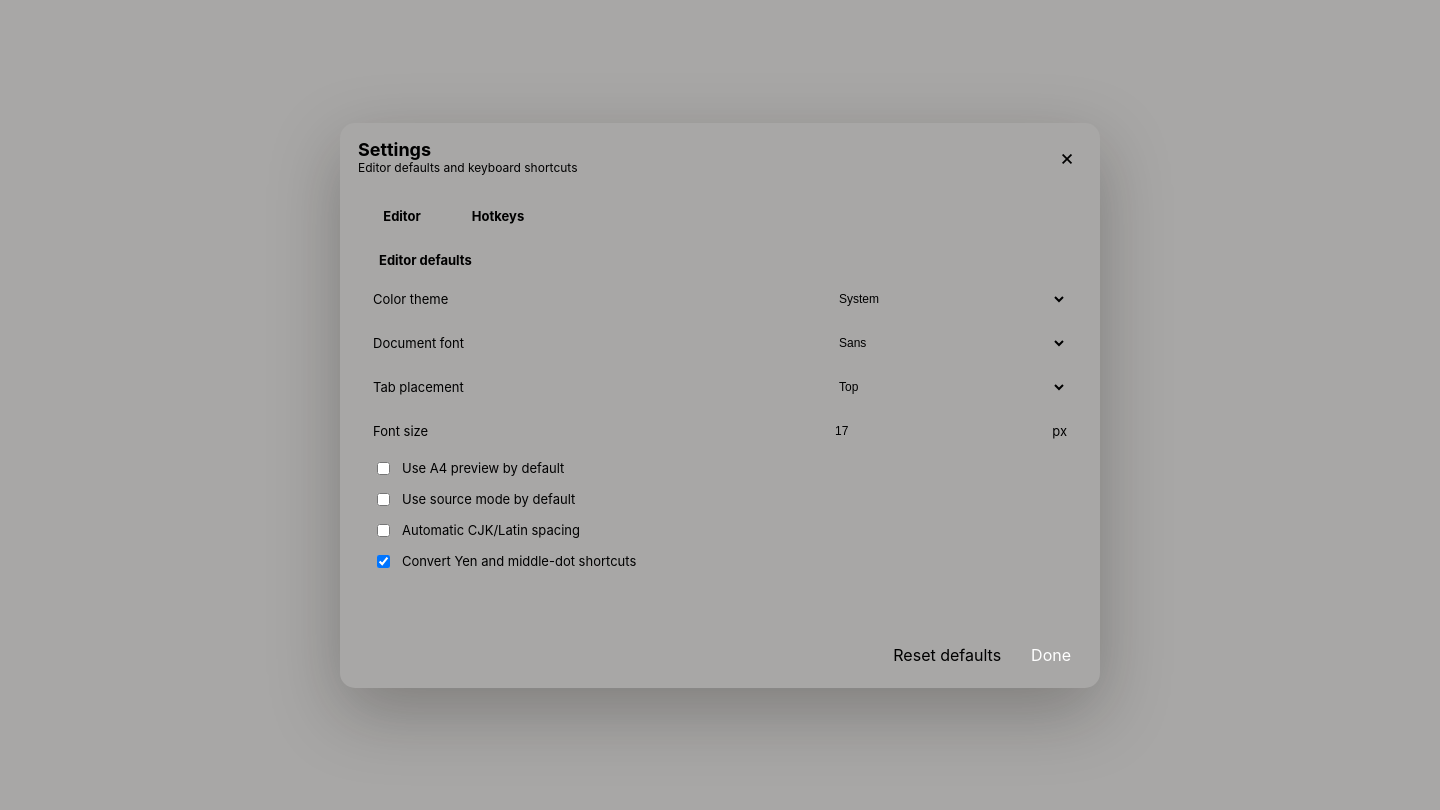
SettingsDialog › uses spaced system-font Command and Shift symbols on macOS
Click the tab "Hotkeys". click: x=498, y=216
box: [452,198,544,234]
(page scrolled)
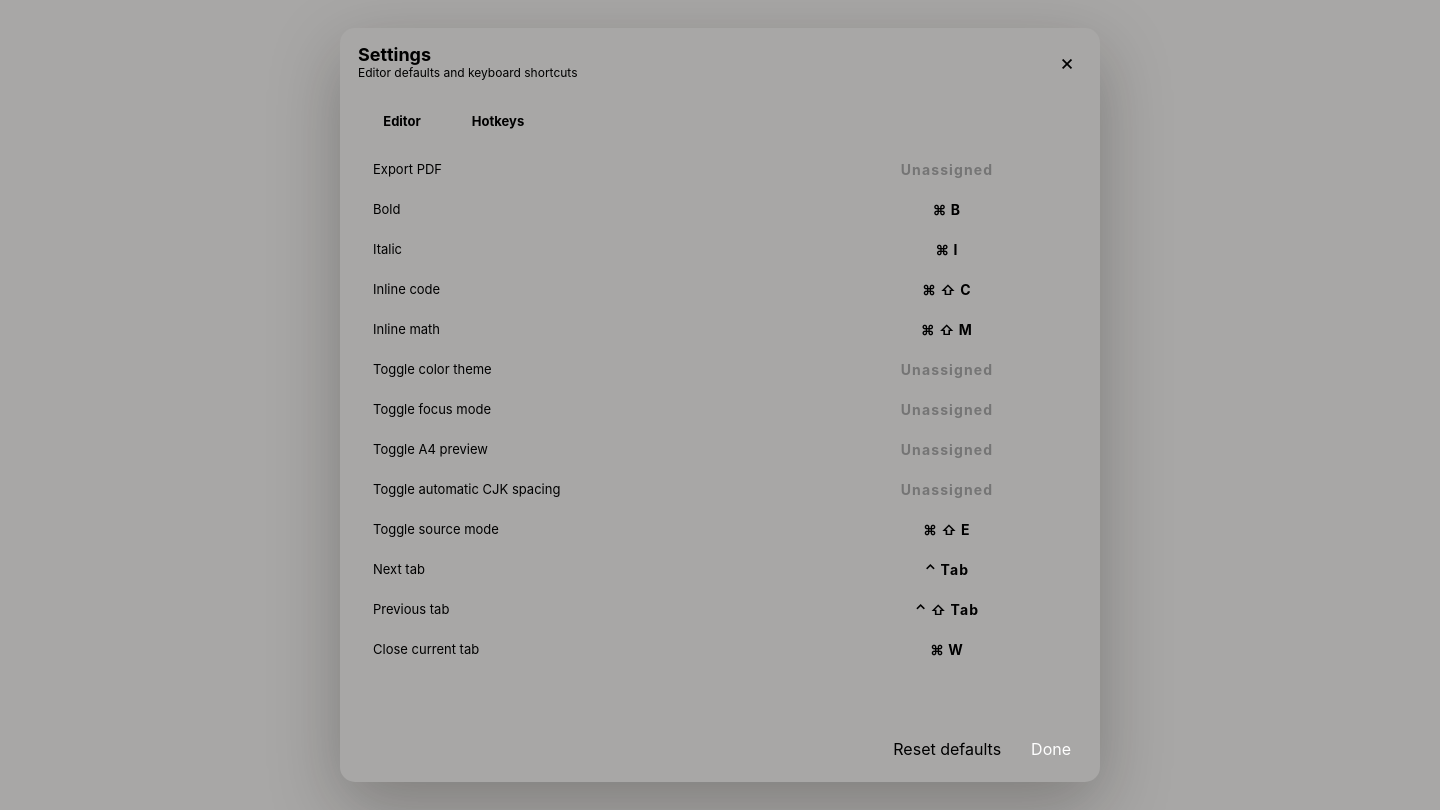
expect the field named "Shortcut for Inline code" holds "⌘ ⇧ C": met, box [827,273,1067,305]
expect the field named "Shortcut for Next tab" holds "⌃ Tab": met, box [827,553,1067,585]
